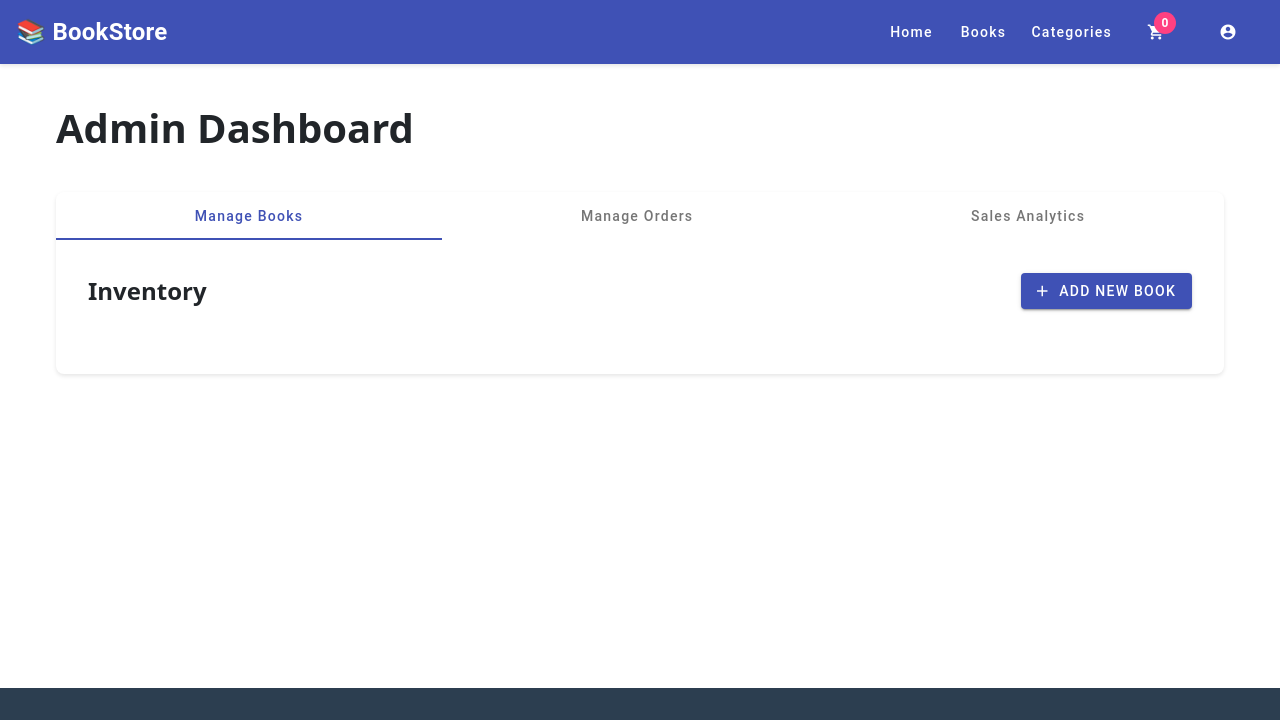
Test: Admin Page › should display total revenue in Sales Analytics tab
This screenshot has width=1280, height=720.
Click the tab "Sales Analytics" at point(1028, 216), box [971,208,1085,224]
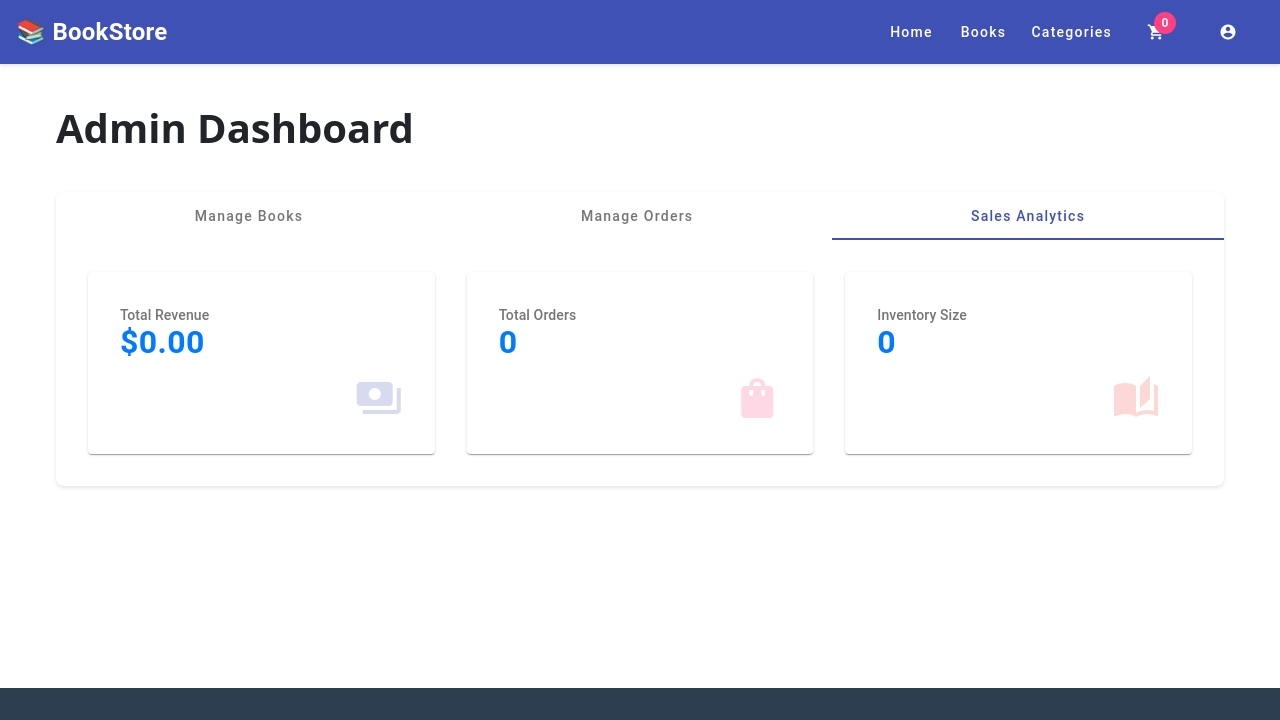
Expected: the text "Total Revenue" is shown, [120,304,209,326]
